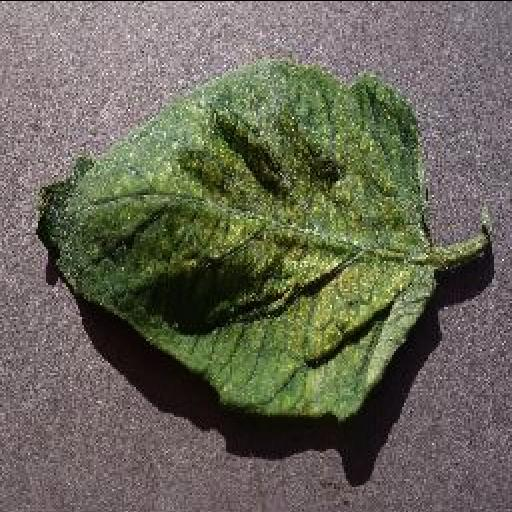disease_tomato: (34, 62, 440, 422)
